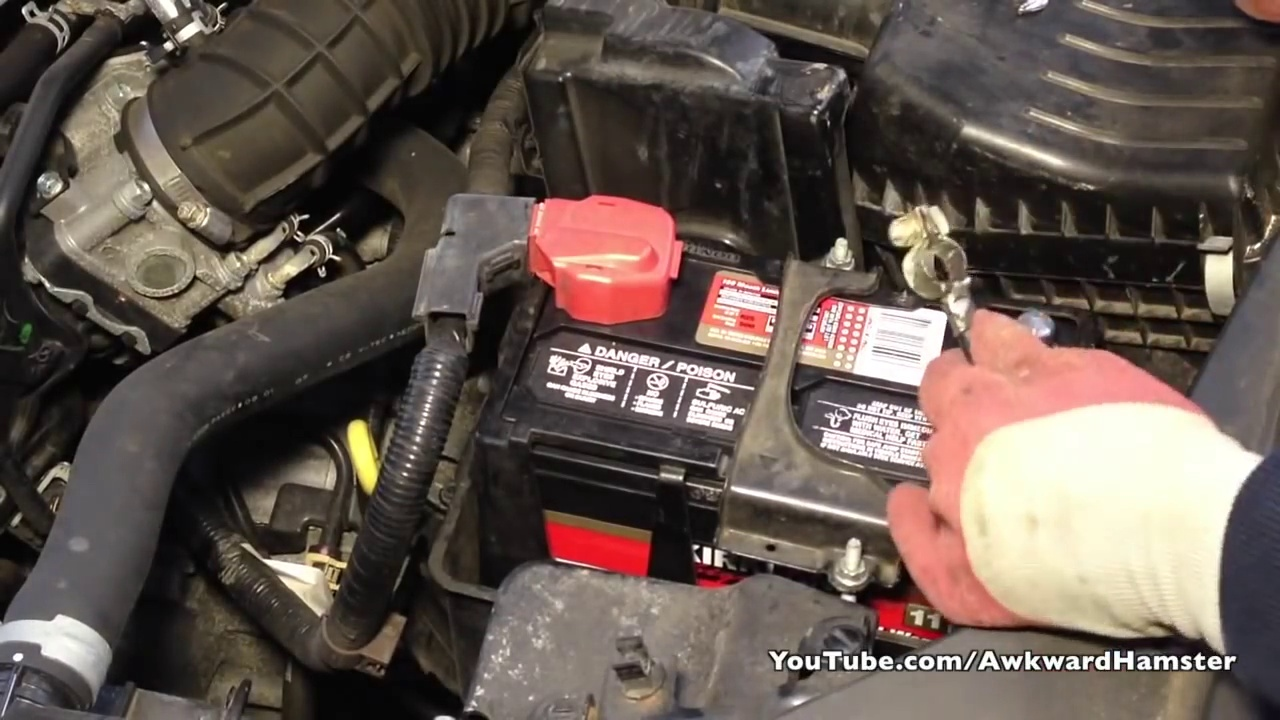battery: (472, 200, 929, 509)
pos_connected: (474, 176, 690, 336)
